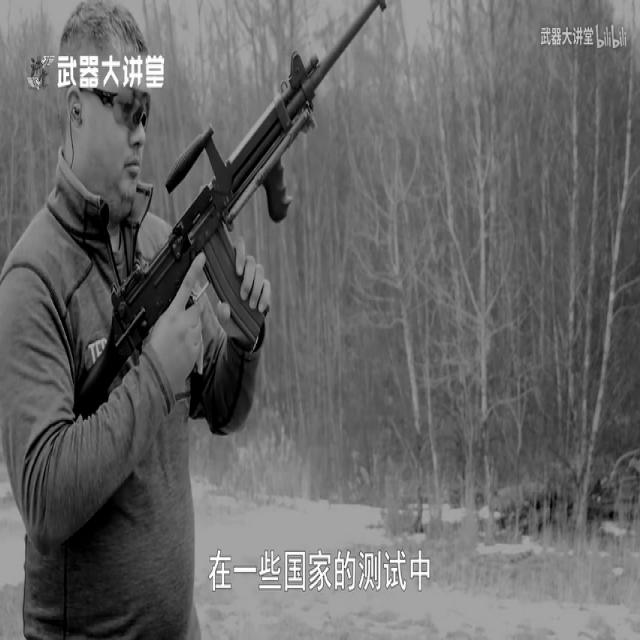Sniper: (0, 0, 422, 485)
